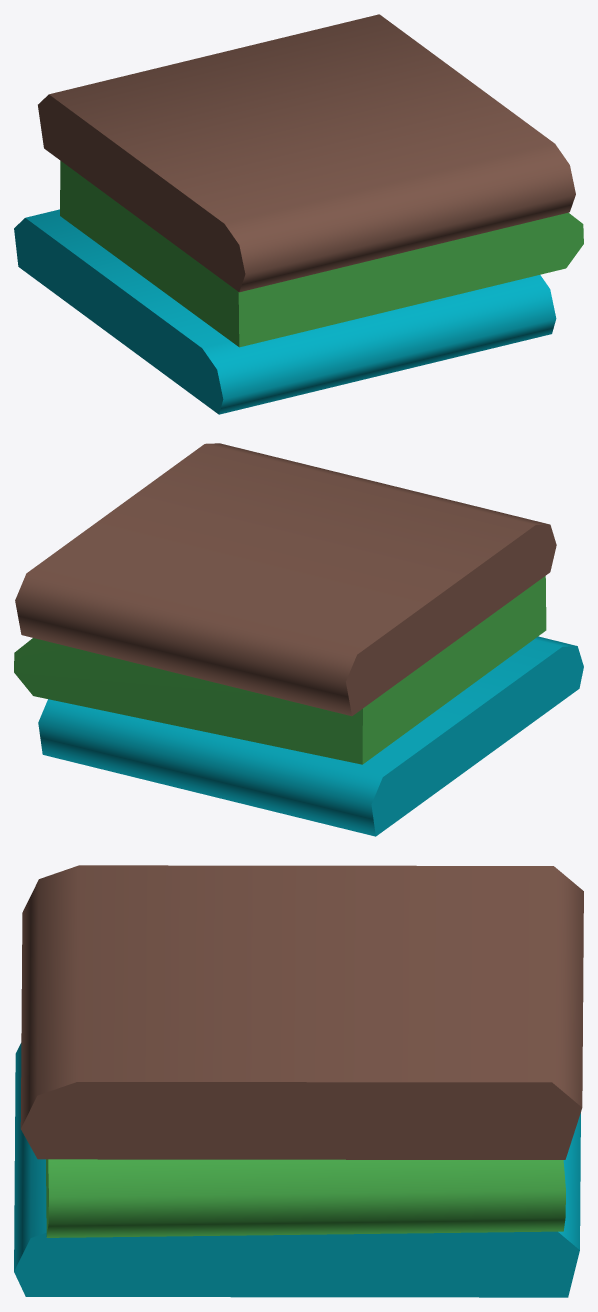
Rendered from shop_028.fbx.
The picture shows the model from 3 angles, top to bottom: view 1: azimuth 30°, elevation 25°; view 2: azimuth 150°, elevation 25°; view 3: azimuth 270°, elevation 25°; orthographic projection. The views are drawn at different scales.
Visible parts, largest first — view 1: shop_028; view 2: shop_028; view 3: shop_028.
Part boxes in pixels (x1,y1,x2,y2): shop_028: (14, 14, 583, 414); shop_028: (14, 443, 583, 836); shop_028: (14, 865, 583, 1297).
Bounding box in the file's own units: 41.02 × 40.4 × 17.96.
